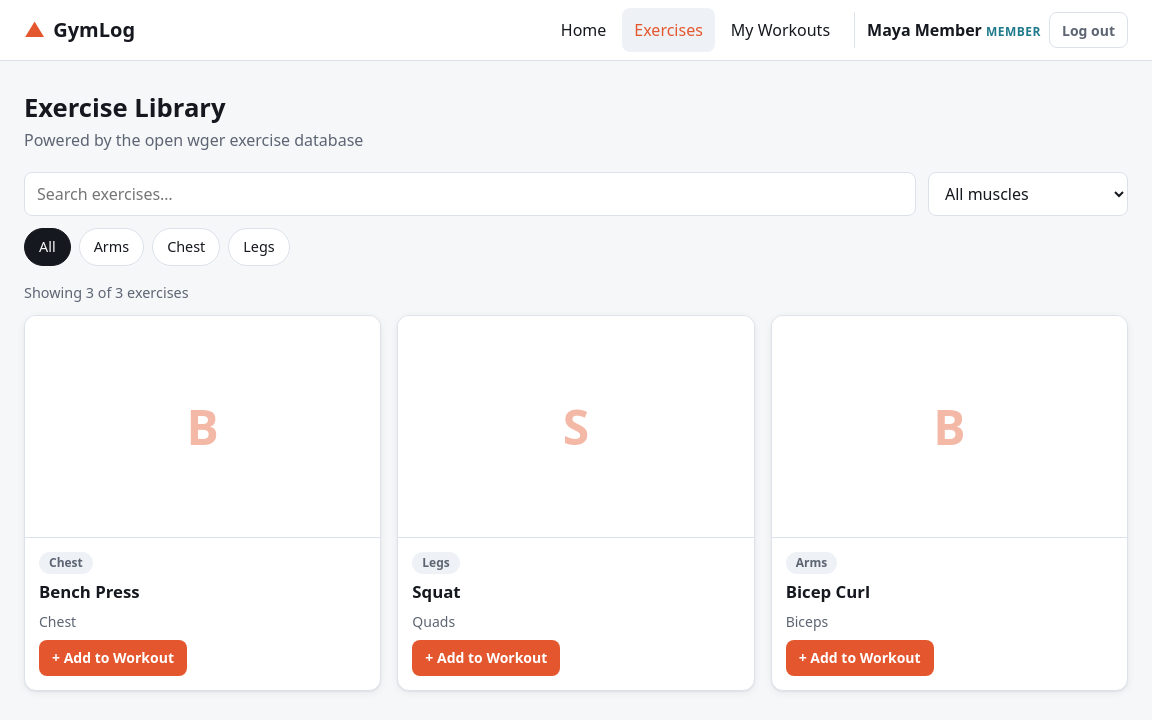
Test: Exercise library (API data + local state) › adds an exercise to the workout via context and updates the navbar badge
Expected: the link "Bench Press" is shown, [39,580,140,603]
Click the button "+ Add to Workout" below "Bench Press": coordinates (113, 658) [39,640,187,676]
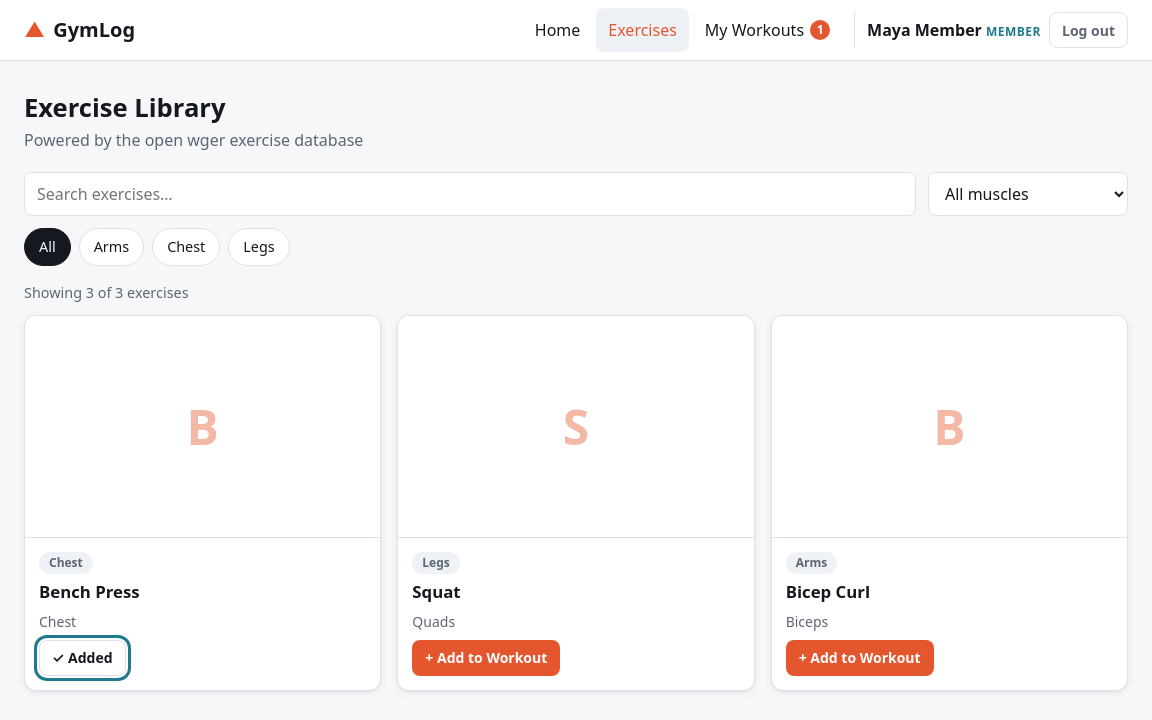
Expected: the button "✓ Added" is shown, [39,640,126,676]
Expected: the text named "1 in current workout" is shown, [810,20,830,40]
